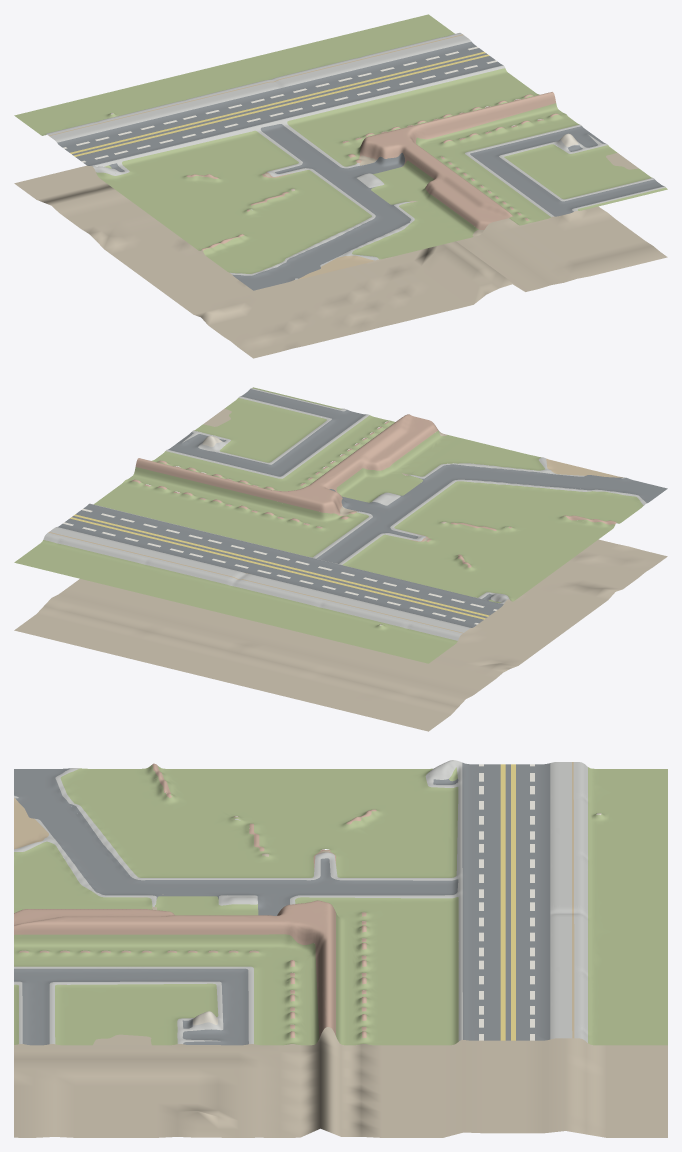
3 views of the same model, one above another, from view 1: azimuth 30°, elevation 25°; view 2: azimuth 150°, elevation 25°; view 3: azimuth 270°, elevation 25° (orthographic). The views are drawn at different scales.
Parts seen in each view (by area): view 1: s_-7_-6__grass, s_-7_-6__soil, s_-7_-6__asphalt, s_-7_-6__stone_paving, s_-7_-6__brick_paving, s_-7_-6__yellow_marking, s_-7_-6__white_marking, s_-7_-6__timber_deck; view 2: s_-7_-6__grass, s_-7_-6__soil, s_-7_-6__asphalt, s_-7_-6__stone_paving, s_-7_-6__brick_paving, s_-7_-6__yellow_marking, s_-7_-6__white_marking, s_-7_-6__timber_deck; view 3: s_-7_-6__grass, s_-7_-6__soil, s_-7_-6__asphalt, s_-7_-6__stone_paving, s_-7_-6__brick_paving, s_-7_-6__yellow_marking, s_-7_-6__white_marking, s_-7_-6__timber_deck.
Part boxes in pixels (box(x1,y1,x2,y2)): s_-7_-6__grass: box(14, 14, 667, 273); s_-7_-6__soil: box(14, 112, 667, 358); s_-7_-6__asphalt: box(57, 41, 663, 290); s_-7_-6__stone_paving: box(46, 33, 665, 279); s_-7_-6__brick_paving: box(186, 92, 559, 250); s_-7_-6__yellow_marking: box(70, 52, 489, 156); s_-7_-6__white_marking: box(63, 46, 497, 162); s_-7_-6__timber_deck: box(49, 34, 463, 279); s_-7_-6__grass: box(14, 387, 643, 663); s_-7_-6__soil: box(14, 408, 667, 731); s_-7_-6__asphalt: box(58, 389, 667, 627); s_-7_-6__stone_paving: box(43, 388, 646, 640); s_-7_-6__brick_paving: box(131, 414, 616, 567); s_-7_-6__yellow_marking: box(70, 514, 489, 619); s_-7_-6__white_marking: box(63, 508, 497, 624); s_-7_-6__timber_deck: box(48, 458, 622, 633); s_-7_-6__grass: box(14, 765, 667, 1045); s_-7_-6__soil: box(14, 850, 667, 1137); s_-7_-6__asphalt: box(14, 762, 550, 1045); s_-7_-6__stone_paving: box(14, 760, 587, 1043); s_-7_-6__brick_paving: box(14, 763, 376, 1038); s_-7_-6__yellow_marking: box(500, 764, 515, 1040); s_-7_-6__white_marking: box(479, 764, 534, 1040); s_-7_-6__timber_deck: box(14, 762, 574, 1038).
Bounding box in the file's own units: 128 × 24.03 × 128.
